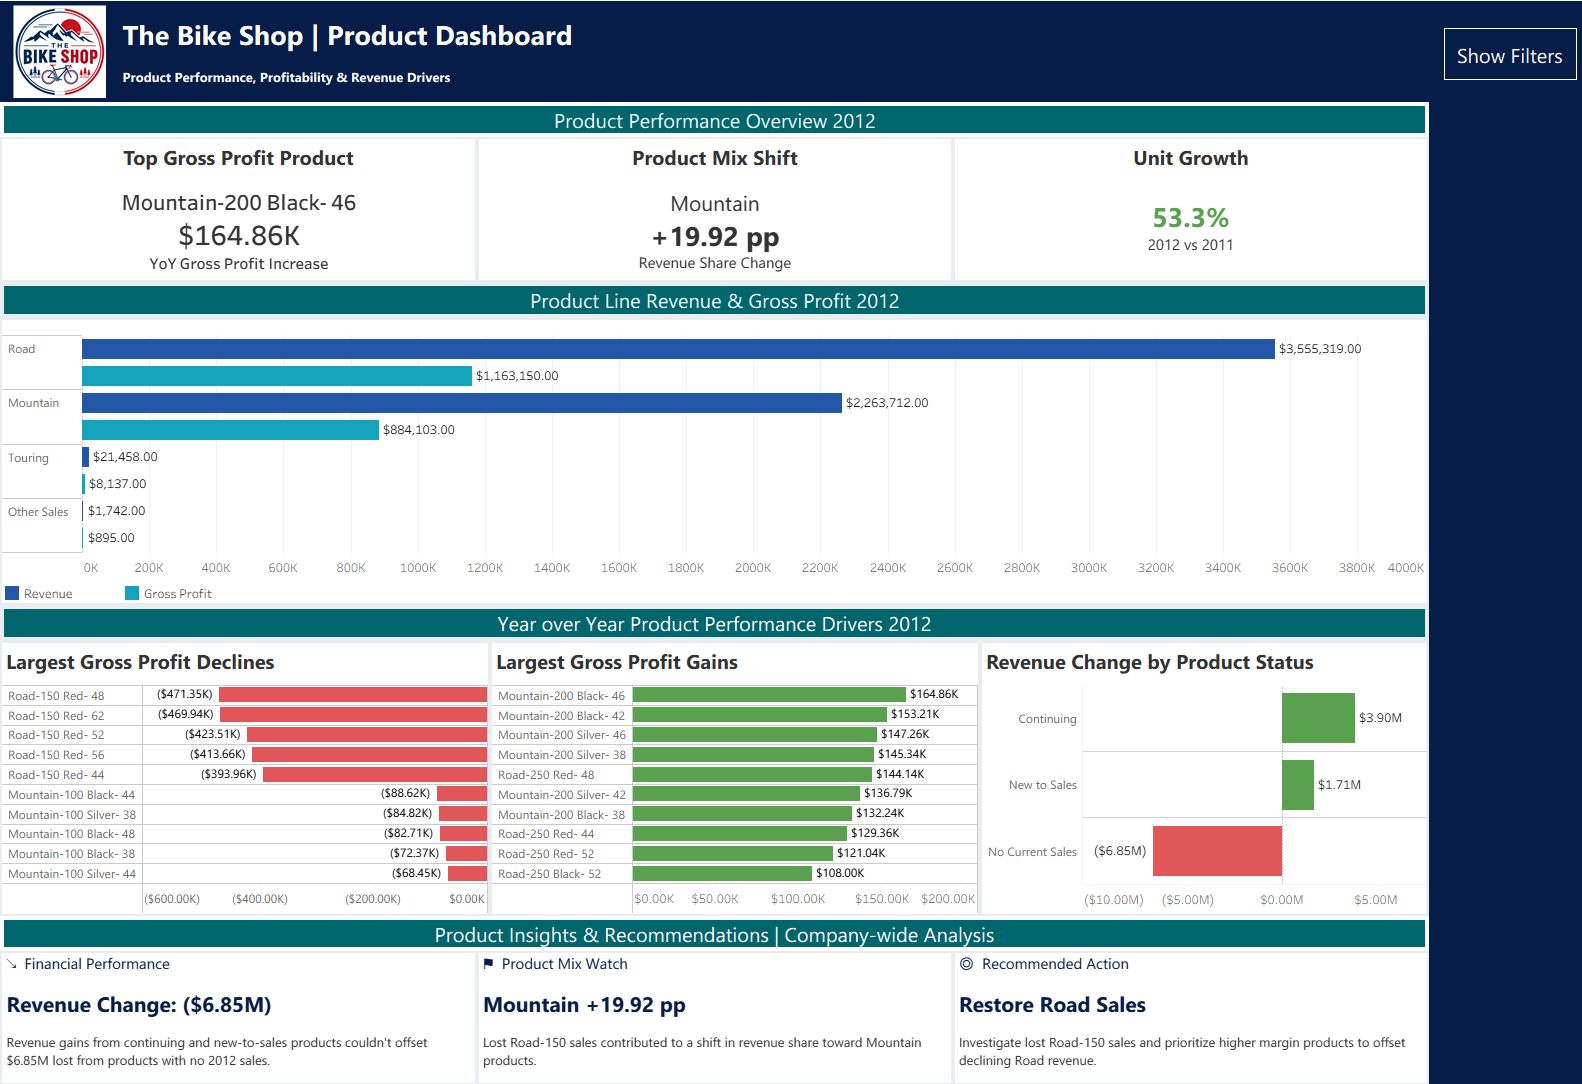

What the dashboard file says about the page in this screenshot:
{"tool":"tableau","page":{"name":"Product Dashboard","canvas":[1600,1100],"ordinal":1},"visuals":[{"type":"image","param":"Image/a_clean_flat_vector_style_logo_design_on_a_white.png","box":[8,8,120,101]},{"type":"text","box":[128,8,1308.7,101]},{"type":"blank","box":[1436.7,8,155.3,1084]},{"type":"dashboard-object","box":[1452.2,35,132.9,51.7]},{"type":"parameter","param":"[Parameters].[Parameter 1607269344743424]","box":[1448.3,101.6,142.7,57]},{"type":"worksheet","title":"Prod Performance Overview","mark":"Automatic","box":[8,109,1428.7,35]},{"type":"worksheet","title":"Top Gross Profit Product","mark":"Automatic","rows":["product_key"],"box":[8,144,477,145]},{"type":"worksheet","title":"Product Mix Shift","mark":"Automatic","box":[485,144,476,145]},{"type":"worksheet","title":"Unit Growth","mark":"Automatic","box":[961,144,476,145]},{"type":"filter","title":"Bottom Products by Gross Profit Change","param":"[federated.185ht981dlt0q01ef34t71ksnz8l].[none:country:nk]","box":[1448.3,158.6,142.7,57]},{"type":"filter","title":"Top Gross Profit Product","param":"[federated.185ht981dlt0q01ef34t71ksnz8l].[none:Calculation_0739201814458396:nk]","box":[1448.3,215.6,142.7,57]},{"type":"filter","title":"Top Gross Profit Product","param":"[federated.185ht981dlt0q01ef34t71ksnz8l].[none:product_line:nk]","box":[1448.3,272.6,142.7,57]},{"type":"worksheet","title":"Prod Line Rev & Gross Profit","mark":"Automatic","box":[8,289,1428.7,36]},{"type":"worksheet","title":"Product Line Revenue & Gross Profit","mark":"Automatic","rows":["product_line"],"box":[8,325,1428.7,265]},{"type":"legend","title":"Product Line Revenue & Gross Profit","param":"[federated.185ht981dlt0q01ef34t71ksnz8l].[:Measure Names]","box":[8,590,1428.7,22]},{"type":"text","box":[8,612,1428.7,36]},{"type":"worksheet","title":"Bottom Products by Gross Profit Change","mark":"Automatic","rows":["product_key","product_name"],"cols":["Calculation_2113872537817093"],"box":[8,648,490.2,275]},{"type":"worksheet","title":"Top Products by Gross Profit Change","mark":"Automatic","rows":["product_key","product_name"],"cols":["Calculation_2113872537817093"],"box":[498.2,648,490.2,275]},{"type":"worksheet","title":"Revenue Drivers","mark":"Bar","rows":["Calculation_2113872563081225"],"cols":["Gross Profit Change Contribution (copy)_2113872575840266"],"box":[988.4,648,448.2,275]},{"type":"text","box":[8,923,1428.7,35]},{"type":"worksheet","title":"Exec Insight Fin Prod","mark":"Automatic","box":[8,958,477,134]},{"type":"worksheet","title":"Exec Insight Prod Mix","mark":"Text","box":[485,958,476,134]},{"type":"worksheet","title":"Exec Insight Rec Prod","mark":"Text","box":[961,958,476,134]}]}

Visuals, with their boxes in screenshot pixels (x1, y1, x2, y2), scaled from the page's 1600x1100 canvas onto the 1582x1084 screenshot:
image: detection(8, 8, 127, 107)
text: detection(127, 8, 1421, 107)
blank: detection(1421, 8, 1574, 1076)
dashboard-object: detection(1436, 34, 1567, 85)
parameter: detection(1432, 100, 1573, 156)
"Prod Performance Overview" worksheet: detection(8, 107, 1421, 142)
"Top Gross Profit Product" worksheet: detection(8, 142, 480, 285)
"Product Mix Shift" worksheet: detection(480, 142, 950, 285)
"Unit Growth" worksheet: detection(950, 142, 1421, 285)
"Bottom Products by Gross Profit Change" filter: detection(1432, 156, 1573, 212)
"Top Gross Profit Product" filter: detection(1432, 212, 1573, 269)
"Top Gross Profit Product" filter: detection(1432, 269, 1573, 325)
"Prod Line Rev & Gross Profit" worksheet: detection(8, 285, 1421, 320)
"Product Line Revenue & Gross Profit" worksheet: detection(8, 320, 1421, 581)
"Product Line Revenue & Gross Profit" legend: detection(8, 581, 1421, 603)
text: detection(8, 603, 1421, 639)
"Bottom Products by Gross Profit Change" worksheet: detection(8, 639, 493, 910)
"Top Products by Gross Profit Change" worksheet: detection(493, 639, 977, 910)
"Revenue Drivers" worksheet (Bar marks): detection(977, 639, 1420, 910)
text: detection(8, 910, 1421, 944)
"Exec Insight Fin Prod" worksheet: detection(8, 944, 480, 1076)
"Exec Insight Prod Mix" worksheet (Text marks): detection(480, 944, 950, 1076)
"Exec Insight Rec Prod" worksheet (Text marks): detection(950, 944, 1421, 1076)
